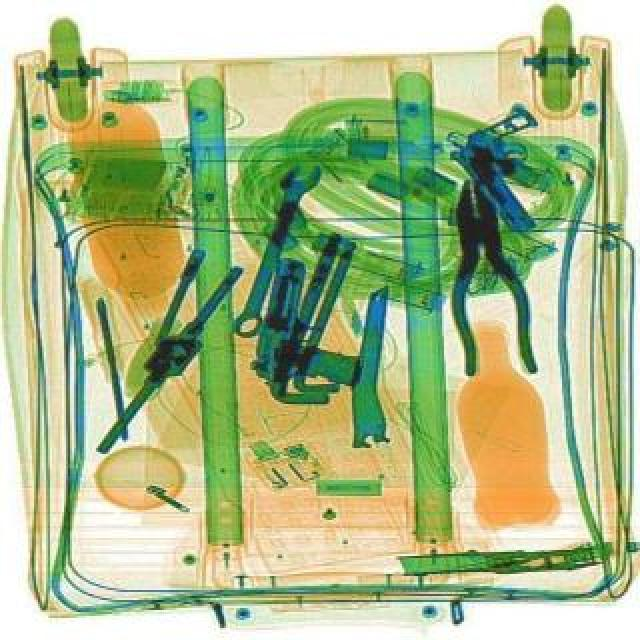gun: (448, 98, 598, 238), (252, 254, 384, 398)
scissors: (230, 156, 326, 342)
wrench: (442, 174, 542, 380)
